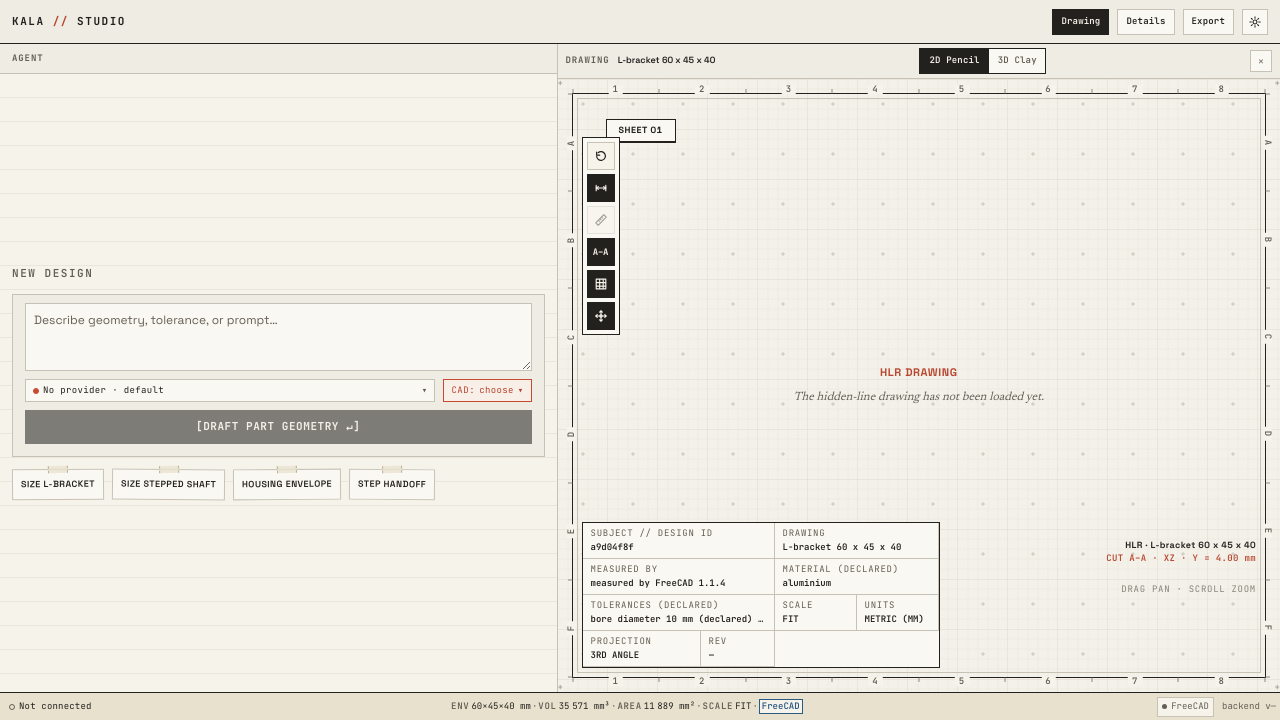
app frame › opens the drawing automatically when a CAD-built design arrives
Expected: the element with class "drafting-sheet" is shown, [558,79,1279,692]
Expected: the text with class "drawing-panel-name" reads "L-bracket 60 x 45 x 40", [618,54,715,66]
What coordinates should you click on to do the following:
click the button named "Close drawing"
I would click on:
 (1261, 61)
Its box is [1250,50,1272,72].
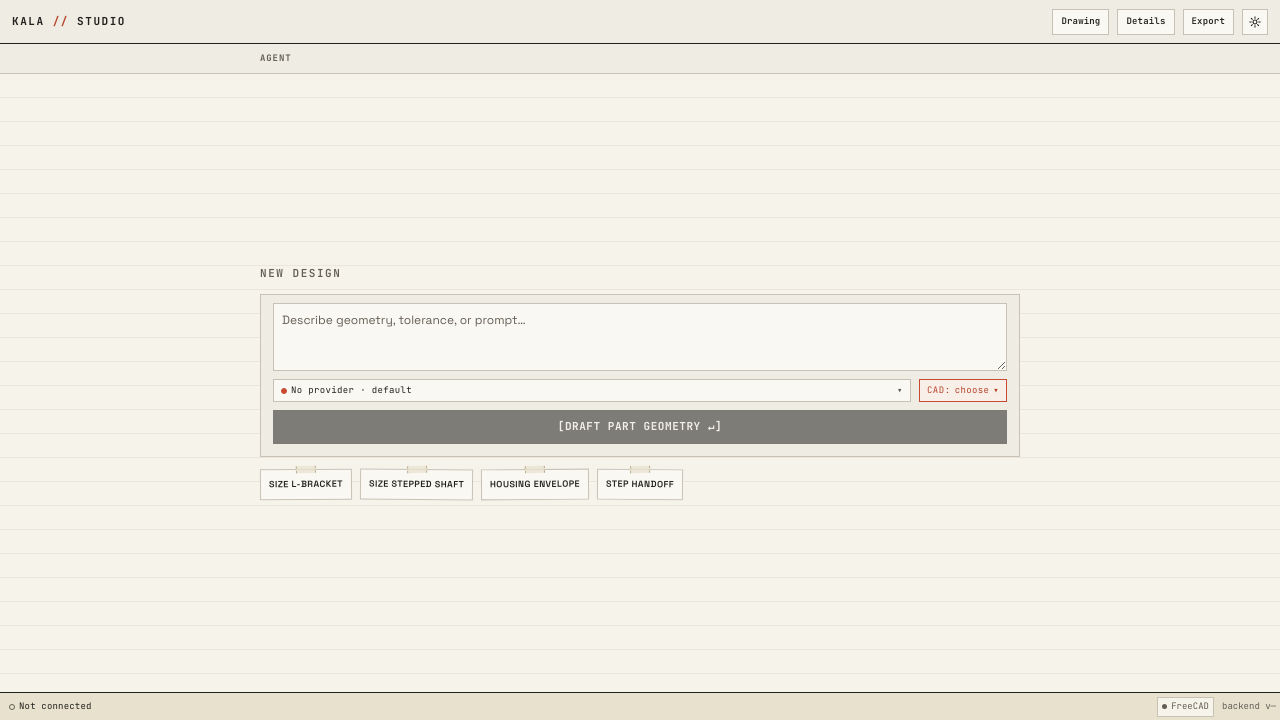
Expected: the element with class "studio-drawing-column" is gone
